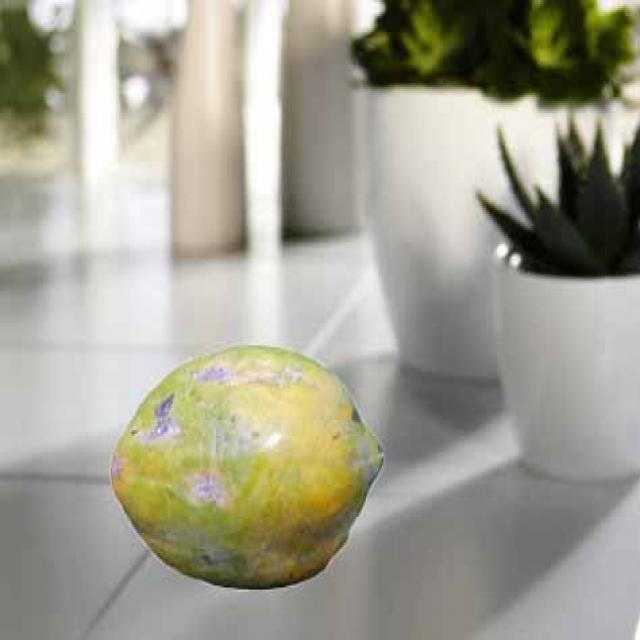Pepaya rippen: (110, 345, 380, 596)
